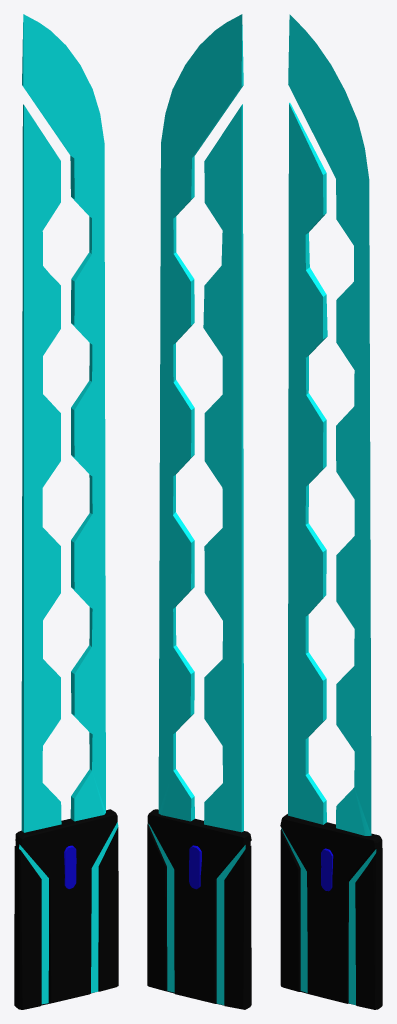
Rendered from sword.glb.
3 renders of one model, left to right at view 1: azimuth 30°, elevation 25°; view 2: azimuth 150°, elevation 25°; view 3: azimuth 330°, elevation 25°, orthographic. The views are drawn at different scales.
Parts seen in each view (by area): view 1: material; view 2: material; view 3: material.
Part boxes in pixels (x1,y1,x2,y2): material: [14, 14, 118, 1009]; material: [147, 14, 251, 1009]; material: [280, 14, 382, 1009].
Bounding box in the file's own units: 0.1255 × 1.19 × 0.0219.
